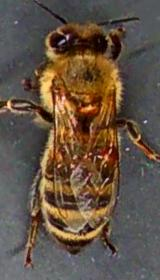varroa_mite: (94, 140, 126, 162)
